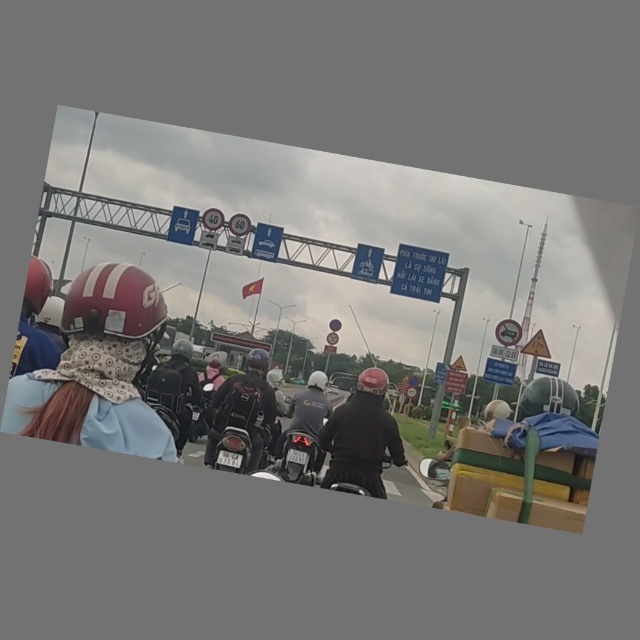Camera: (433, 362, 450, 385)
P.106a*Xe tai: (493, 317, 525, 349)
P.111: (325, 333, 340, 347)
P.127*40: (200, 207, 227, 233)
P.127*60: (227, 213, 253, 239)
P.129: (406, 388, 418, 400)
P.130: (328, 319, 343, 334)
P.131a: (407, 377, 420, 388)
W.221b: (450, 354, 470, 373)
W.239b*: (520, 327, 557, 360)
